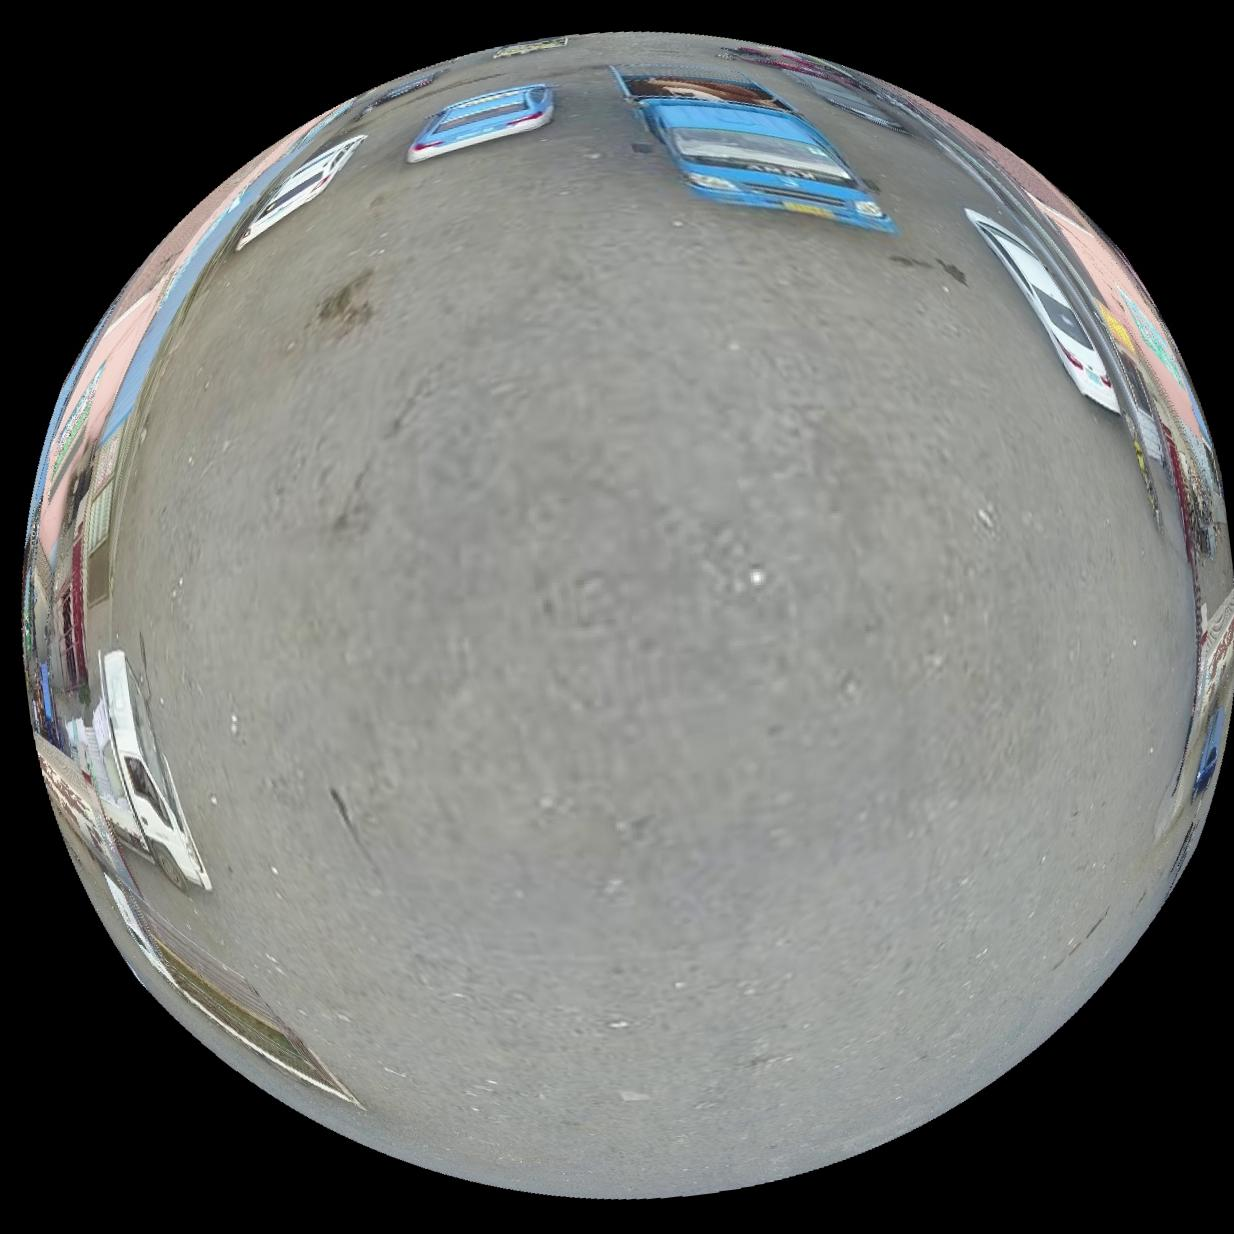cars: (103, 874, 358, 1107), (612, 63, 897, 232), (61, 650, 209, 892), (966, 207, 1121, 412), (236, 133, 365, 249), (406, 81, 554, 160)
